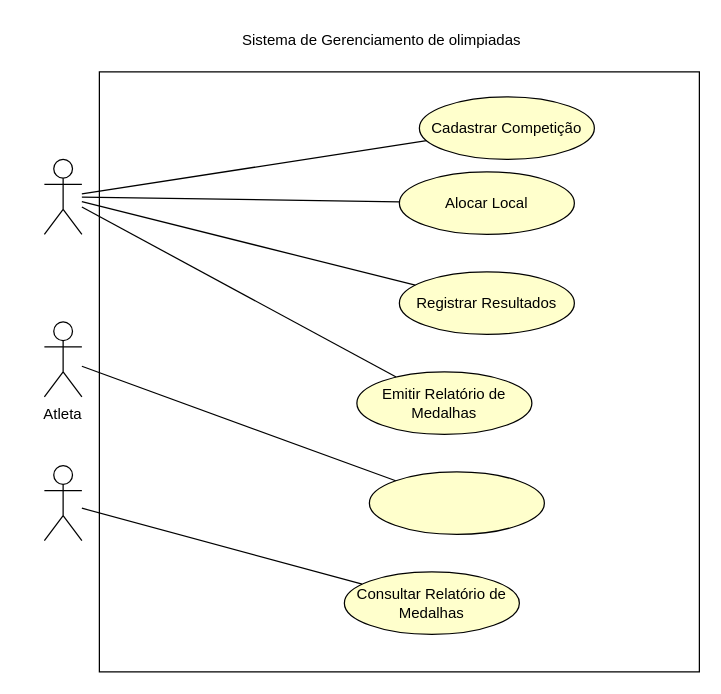
The diagram is 721 pixels wide and 694 high, and some of its shapes have lost their labels. Here are the shapes that lost their labels. From the top down, the box of each, then its label:
(43, 158, 82, 234): Organizador
(43, 464, 82, 541): Comitê
(368, 471, 544, 534): Inscrever-se em Competição
